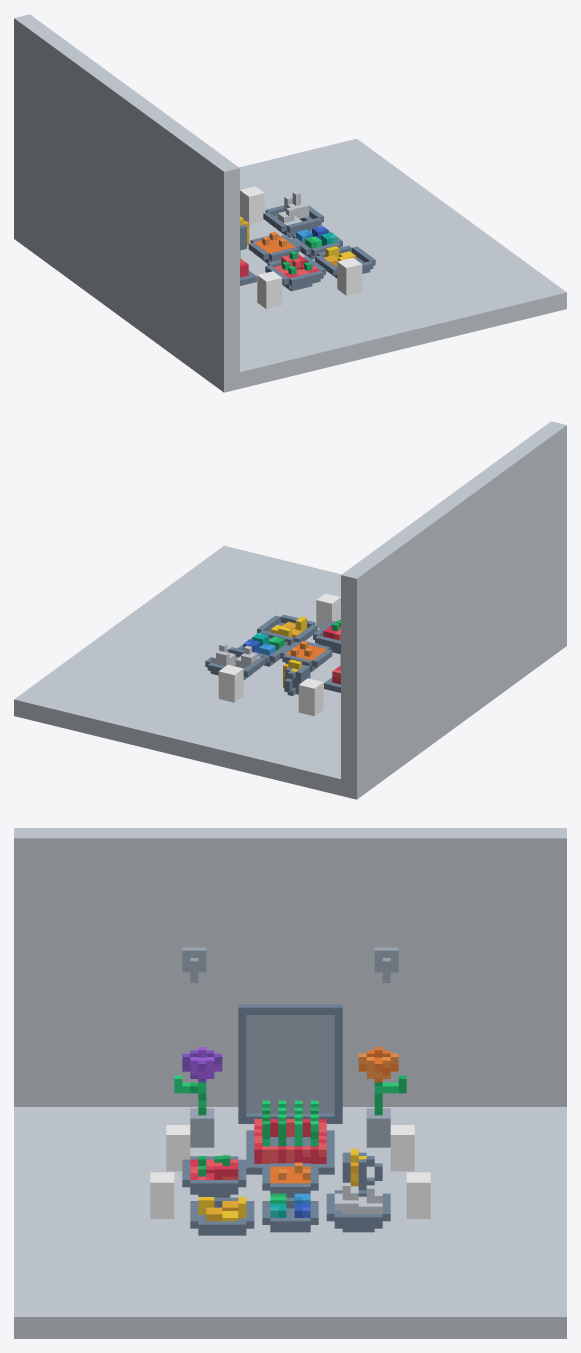
File: nowruz-display-12.obj
3 views of the same model, one above another, from view 1: azimuth 30°, elevation 25°; view 2: azimuth 150°, elevation 25°; view 3: azimuth 270°, elevation 25° (orthographic). The views are drawn at different scales.
Bounding box in the file's own units: 6.5 × 4 × 6.9.
Materials: 1 (1 with a texture image).
